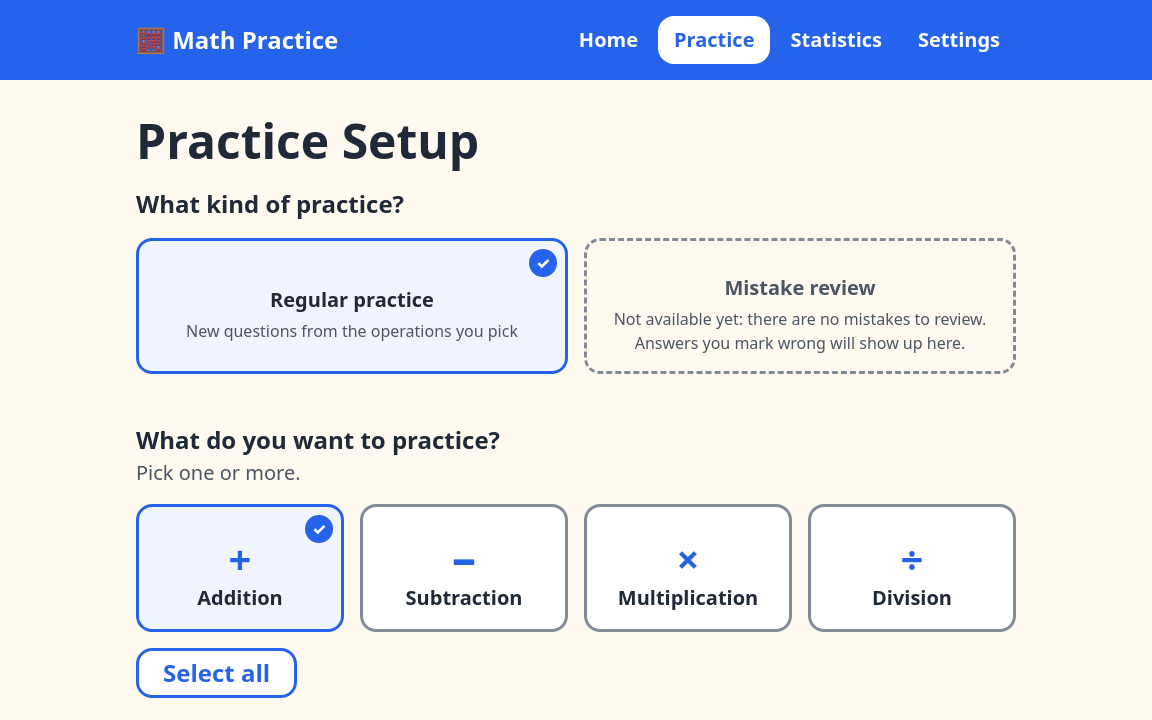
it: PracticeSetupPage › operation selector › has a shortcut to select and clear all operations
The image size is (1152, 720).
Click the button "Select all": (216, 673) [136,648,297,698]
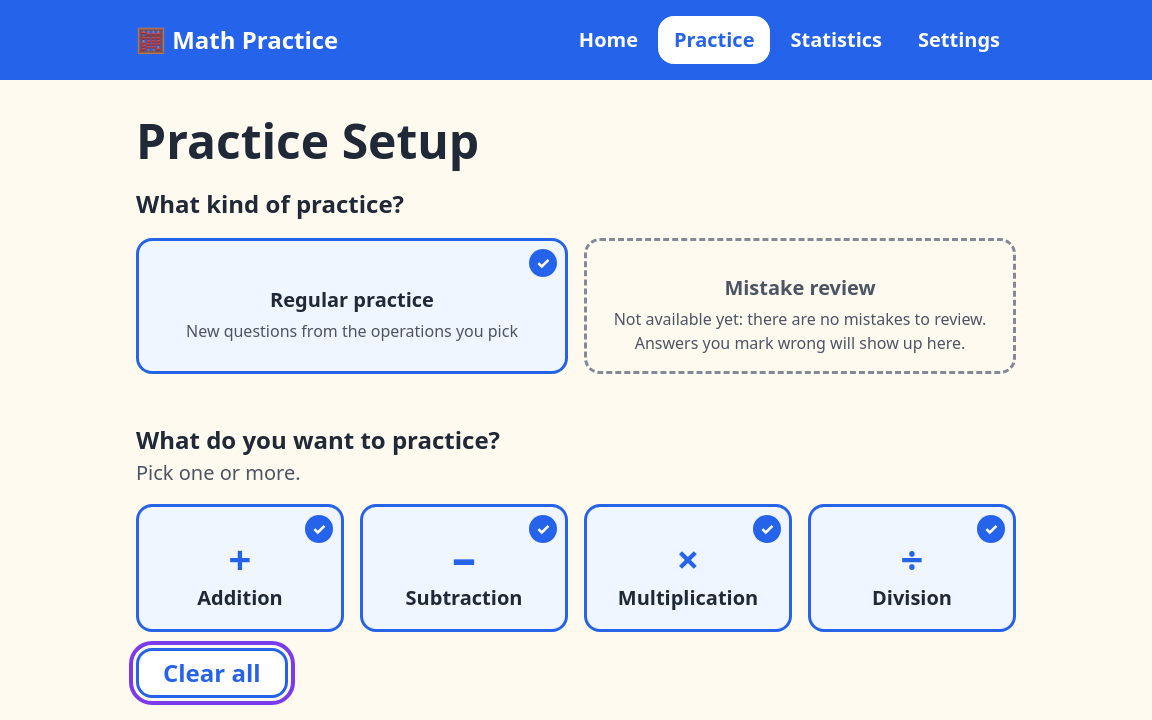
Expected: the checkbox labelled "✓ − Subtraction" is checked, [360,504,568,632]
Expected: the checkbox labelled "✓ × Multiplication" is checked, [584,504,792,632]
Expected: the checkbox labelled "✓ ÷ Division" is checked, [808,504,1016,632]
Click the button "Clear all": (212, 673) [136,648,288,698]
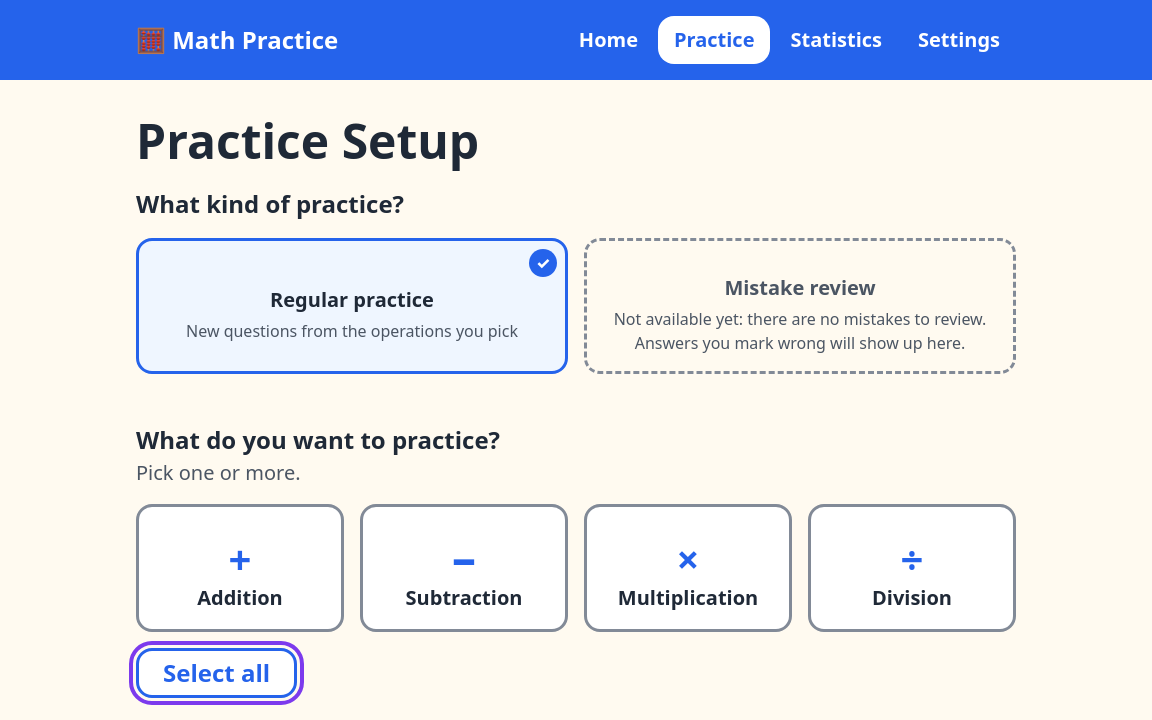
Expected: the checkbox labelled "+ Addition" is not checked, [136,504,344,632]
Expected: the checkbox labelled "− Subtraction" is not checked, [360,504,568,632]
Expected: the checkbox labelled "× Multiplication" is not checked, [584,504,792,632]
